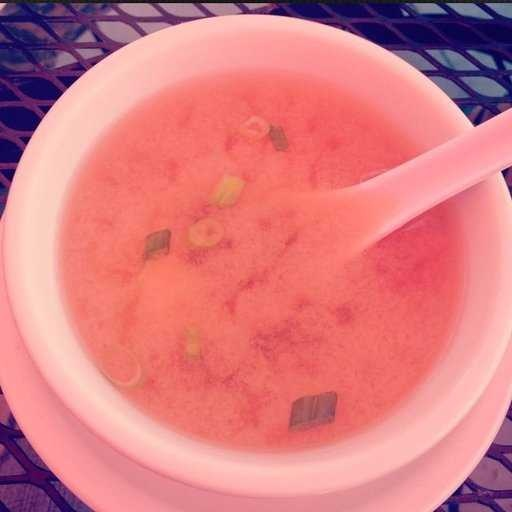soup: (54, 86, 465, 437)
